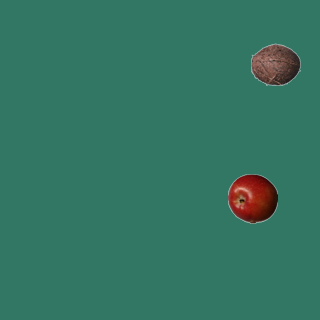Apple Braeburn: (227, 173, 277, 223)
Cocos: (250, 39, 300, 89)
